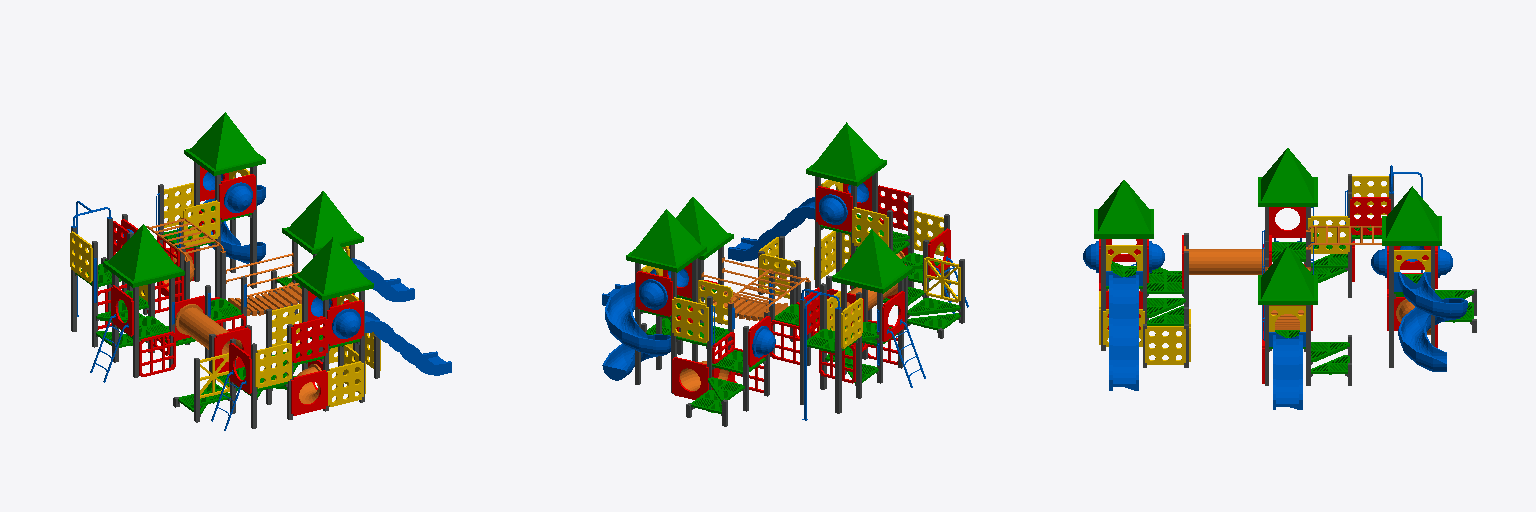
Rendered from demo1.obj.
3 views of the same model, side by side, from view 1: azimuth 30°, elevation 25°; view 2: azimuth 150°, elevation 25°; view 3: azimuth 270°, elevation 25° (orthographic).
Visible parts, largest first — view 1: Mesh409 hat_quarter23 Play_Grow_Roof3 Play_Grow_Configuration___, Mesh83 hat_quarter Play_Grow_Roof1 Play_Grow_Configuration___For, Mesh479 hat_quarter34 Play_Grow_Roof4 Play_Grow_Configuration___, Mesh114 G_3ftSquarewith9Holes2 Wall_Section1 Play_Grow_Configura, Mesh113 G_3ftSquarewith9Holes1 Wall_Section_4_1 Play_Grow_Config, Mesh136 G_3ftSquarewith9Holes6 Wall_Section_7_1 Play_Grow_Config, Mesh301 hat_quarter1 Play_Grow_Roof2 Play_Grow_Configuration___F, Mesh511 G_3ftSqauresidewithmanhole_1_1 ElbowTube_2_1 Tube_Elbow_, Mesh502 G_3ftSquarewith9Holes12 Wall_Section_3_1 Play_Grow_Confi, Mesh98 TubeTube1 Tube_Span1 Play_Grow_Tube1 Play_Grow_Configurat, Mesh389 G_3ftSquarewith9Holes8 Wall_Section_13_1 Play_Grow_Confi, Mesh480 hat_quarter2_3 Play_Grow_Roof4 Play_Grow_Configuration__ (+18 smaller); view 2: Mesh411 hat_quarter3_2 Play_Grow_Roof3 Play_Grow_Configuration__, Mesh85 hat_quarter3 Play_Grow_Roof1 Play_Grow_Configuration___Fo, Mesh481 hat_quarter3_3 Play_Grow_Roof4 Play_Grow_Configuration__, Mesh501 G_3ftSquarewith9Holes11 Wall_Section_16_1 Play_Grow_Conf, Mesh523 G_3ftSqauresidewithmanhole_1_3 ElbowTube_3_1 Tube_Elbow_, Mesh133 G_3ftSquarewith9Holes3 Wall_Section_14_1 Play_Grow_Confi, Mesh303 hat_quarter3_1 Play_Grow_Roof2 Play_Grow_Configuration__, Mesh113 G_3ftSquarewith9Holes1 Wall_Section_4_1 Play_Grow_Config, Mesh389 G_3ftSquarewith9Holes8 Wall_Section_13_1 Play_Grow_Confi, Mesh132 G_3ftSquare4HoleGuard_1_1 Wall_Section_2_1 Play_Grow_Con, Mesh482 hat_quarter4_3 Play_Grow_Roof4 Play_Grow_Configuration__, Mesh86 hat_quarter4 Play_Grow_Roof1 Play_Grow_Configuration___Fo (+20 smaller); view 3: Mesh98 TubeTube1 Tube_Span1 Play_Grow_Tube1 Play_Grow_Configurat, Mesh134 G_3ftSquarewith9Holes4 Wall_Section_5_1 Play_Grow_Config, Mesh482 hat_quarter4_3 Play_Grow_Roof4 Play_Grow_Configuration__, Mesh86 hat_quarter4 Play_Grow_Roof1 Play_Grow_Configuration___Fo, Mesh410 hat_quarter2_2 Play_Grow_Roof3 Play_Grow_Configuration__, Mesh302 hat_quarter2_1 Play_Grow_Roof2 Play_Grow_Configuration__, Mesh84 hat_quarter2 Play_Grow_Roof1 Play_Grow_Configuration___Fo, Mesh390 G_3ftSquarewith9Holes9 Wall_Section_12_1 Play_Grow_Confi, Mesh480 hat_quarter2_3 Play_Grow_Roof4 Play_Grow_Configuration__, Mesh412 hat_quarter4_2 Play_Grow_Roof3 Play_Grow_Configuration__, Mesh304 hat_quarter4_1 Play_Grow_Roof2 Play_Grow_Configuration__, Mesh392 G_3ftSquarewith9Holes10 Wall_Section_15_1 Play_Grow_Conf (+3 smaller).
Boxes of the visible parts, box(x1,y1,x2,y2) form: Mesh409 hat_quarter23 Play_Grow_Roof3 Play_Grow_Configuration___: box(118, 224, 158, 287); Mesh83 hat_quarter Play_Grow_Roof1 Play_Grow_Configuration___For: box(307, 237, 347, 300); Mesh479 hat_quarter34 Play_Grow_Roof4 Play_Grow_Configuration___: box(199, 113, 239, 175); Mesh114 G_3ftSquarewith9Holes2 Wall_Section1 Play_Grow_Configura: box(255, 343, 291, 388); Mesh113 G_3ftSquarewith9Holes1 Wall_Section_4_1 Play_Grow_Config: box(291, 317, 327, 362); Mesh136 G_3ftSquarewith9Holes6 Wall_Section_7_1 Play_Grow_Config: box(327, 361, 363, 406); Mesh301 hat_quarter1 Play_Grow_Roof2 Play_Grow_Configuration___F: box(297, 191, 335, 254); Mesh511 G_3ftSqauresidewithmanhole_1_1 ElbowTube_2_1 Tube_Elbow_: box(291, 370, 327, 415); Mesh502 G_3ftSquarewith9Holes12 Wall_Section_3_1 Play_Grow_Confi: box(183, 200, 219, 245); Mesh98 TubeTube1 Tube_Span1 Play_Grow_Tube1 Play_Grow_Configurat: box(179, 307, 228, 349); Mesh389 G_3ftSquarewith9Holes8 Wall_Section_13_1 Play_Grow_Confi: box(70, 231, 92, 282); Mesh480 hat_quarter2_3 Play_Grow_Roof4 Play_Grow_Configuration__: box(225, 112, 265, 169); Mesh411 hat_quarter3_2 Play_Grow_Roof3 Play_Grow_Configuration__: box(857, 230, 897, 293); Mesh85 hat_quarter3 Play_Grow_Roof1 Play_Grow_Configuration___Fo: box(832, 122, 871, 186); Mesh481 hat_quarter3_3 Play_Grow_Roof4 Play_Grow_Configuration__: box(652, 209, 691, 272); Mesh501 G_3ftSquarewith9Holes11 Wall_Section_16_1 Play_Grow_Conf: box(672, 297, 708, 342); Mesh523 G_3ftSqauresidewithmanhole_1_3 ElbowTube_3_1 Tube_Elbow_: box(672, 357, 708, 399); Mesh133 G_3ftSquarewith9Holes3 Wall_Section_14_1 Play_Grow_Confi: box(852, 207, 888, 246); Mesh303 hat_quarter3_1 Play_Grow_Roof2 Play_Grow_Configuration__: box(685, 197, 718, 259); Mesh113 G_3ftSquarewith9Holes1 Wall_Section_4_1 Play_Grow_Config: box(878, 185, 910, 230); Mesh389 G_3ftSquarewith9Holes8 Wall_Section_13_1 Play_Grow_Confi: box(841, 298, 862, 348); Mesh132 G_3ftSquare4HoleGuard_1_1 Wall_Section_2_1 Play_Grow_Con: box(924, 257, 960, 302); Mesh482 hat_quarter4_3 Play_Grow_Roof4 Play_Grow_Configuration__: box(626, 210, 665, 266); Mesh86 hat_quarter4 Play_Grow_Roof1 Play_Grow_Configuration___Fo: box(806, 124, 845, 179); Mesh98 TubeTube1 Tube_Span1 Play_Grow_Tube1 Play_Grow_Configurat: box(1186, 249, 1263, 274); Mesh134 G_3ftSquarewith9Holes4 Wall_Section_5_1 Play_Grow_Config: box(1145, 326, 1185, 364); Mesh482 hat_quarter4_3 Play_Grow_Roof4 Play_Grow_Configuration__: box(1412, 187, 1441, 245); Mesh86 hat_quarter4 Play_Grow_Roof1 Play_Grow_Configuration___Fo: box(1124, 180, 1153, 238); Mesh410 hat_quarter2_2 Play_Grow_Roof3 Play_Grow_Configuration__: box(1258, 148, 1287, 206); Mesh302 hat_quarter2_1 Play_Grow_Roof2 Play_Grow_Configuration__: box(1258, 246, 1287, 304); Mesh84 hat_quarter2 Play_Grow_Roof1 Play_Grow_Configuration___Fo: box(1094, 180, 1123, 238); Mesh390 G_3ftSquarewith9Holes9 Wall_Section_12_1 Play_Grow_Confi: box(1350, 197, 1390, 234); Mesh480 hat_quarter2_3 Play_Grow_Roof4 Play_Grow_Configuration__: box(1382, 187, 1411, 245); Mesh412 hat_quarter4_2 Play_Grow_Roof3 Play_Grow_Configuration__: box(1288, 149, 1317, 206); Mesh304 hat_quarter4_1 Play_Grow_Roof2 Play_Grow_Configuration__: box(1288, 247, 1317, 304); Mesh392 G_3ftSquarewith9Holes10 Wall_Section_15_1 Play_Grow_Conf: box(1308, 216, 1349, 253).
Bounding box in the file's own units: 7896 × 4238 × 8673.